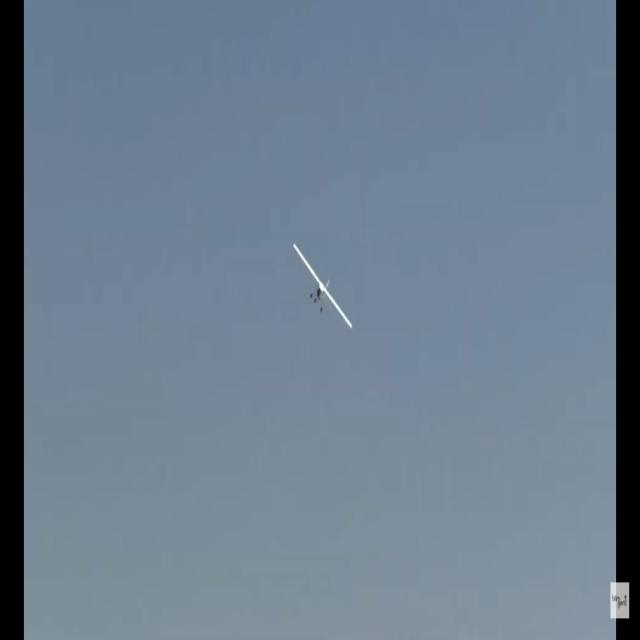iha: (292, 274, 352, 297)
